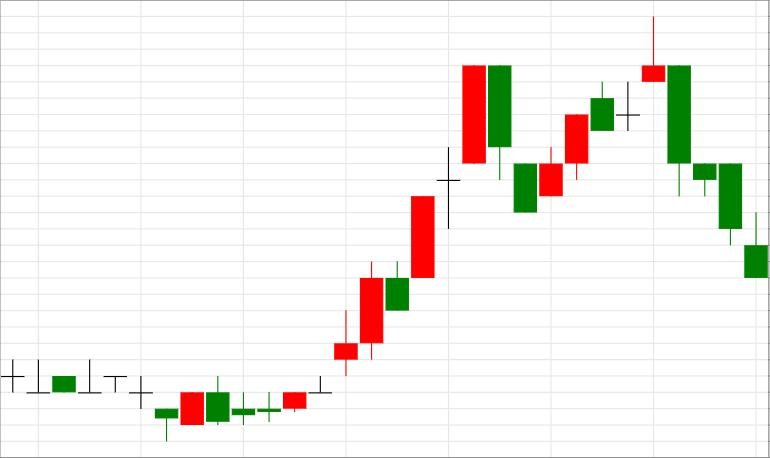bearish_engulfing_fall: (334, 65, 512, 377)
